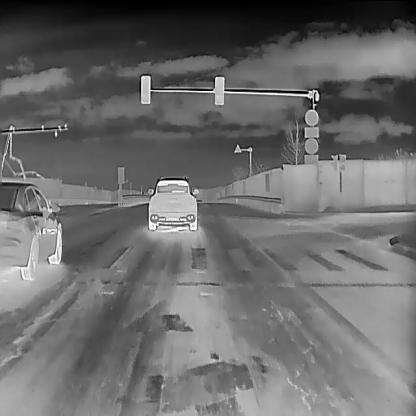car: (0, 180, 62, 280), (147, 174, 199, 230)
